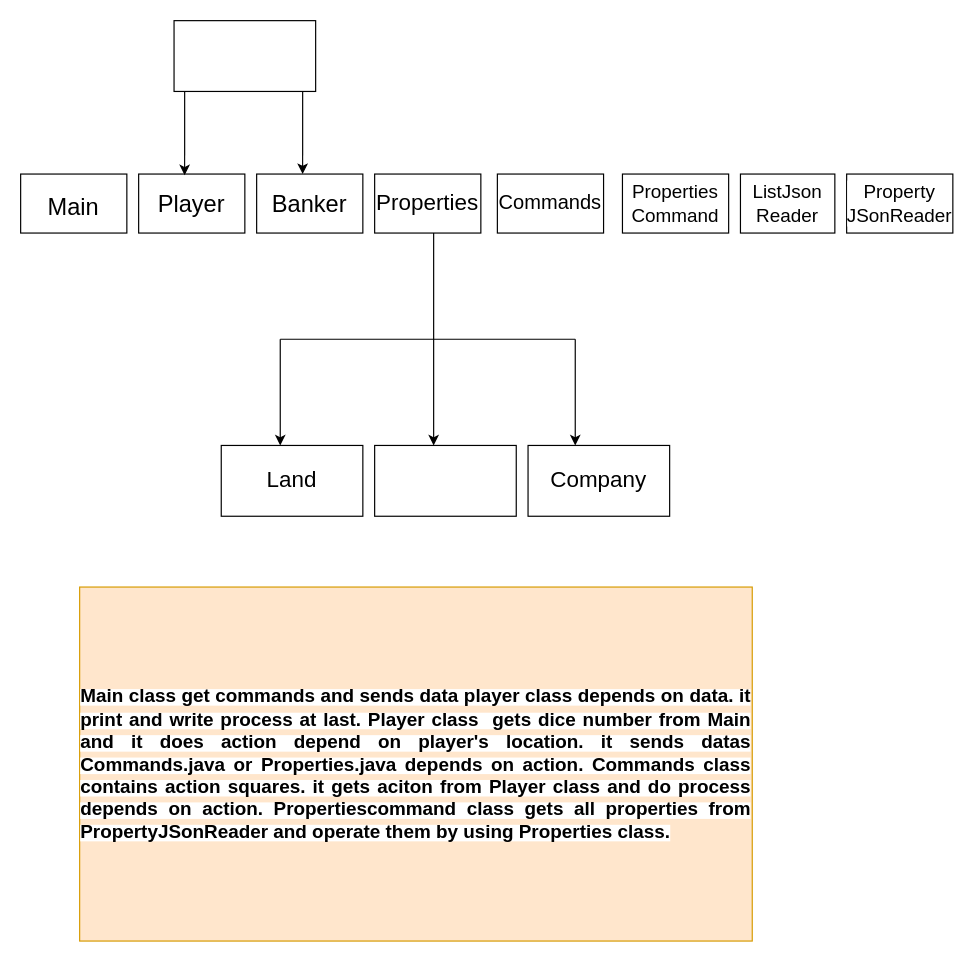
Some shapes in this 973 by 962 pixel diagram are drawn without their labels. Here are the shapes that lost their labels. From the top down, the centre of each, then its label:
the point at 244,55: People
the point at 444,480: Railroads
